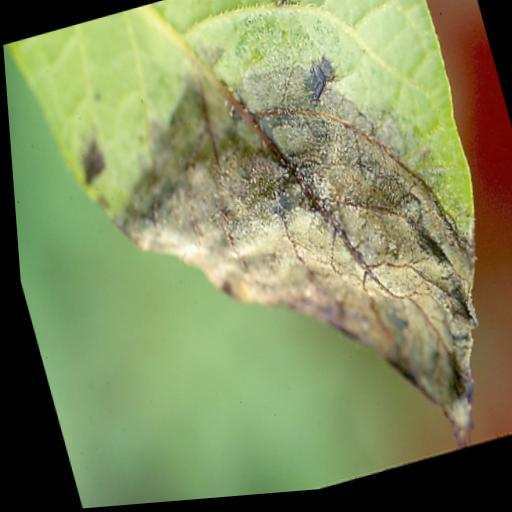Early Blight: (6, 0, 512, 512)
